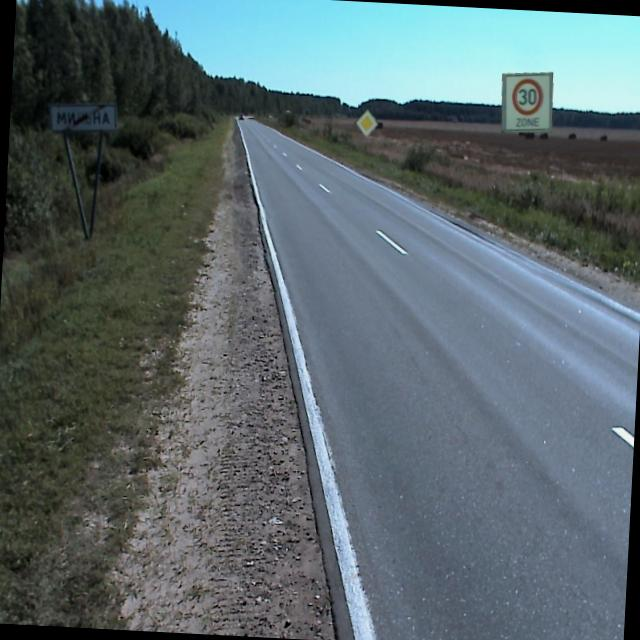road: (236, 118, 640, 640)
